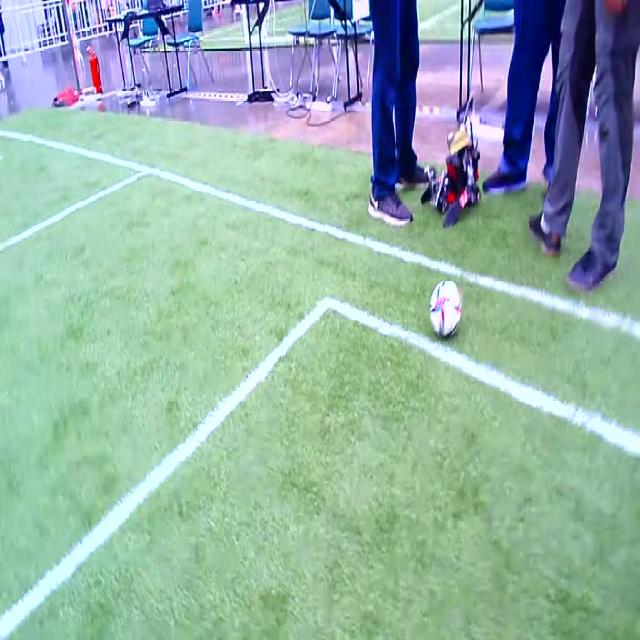ball: (430, 280, 461, 337)
